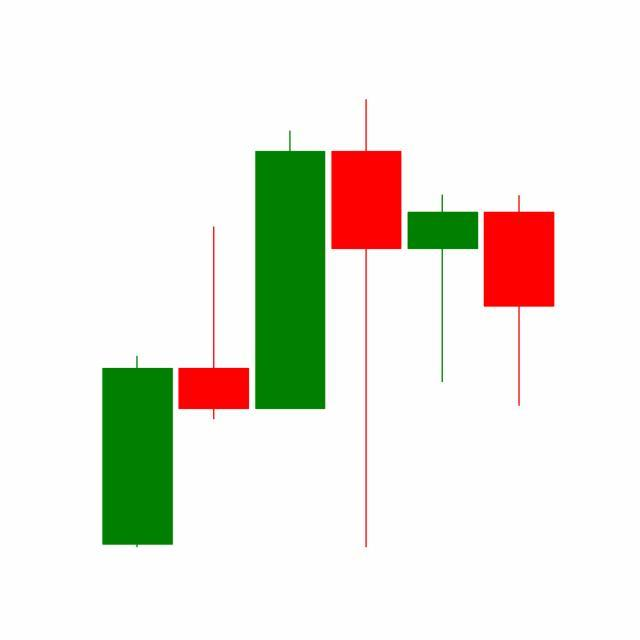Dragonfly Doji: (404, 192, 482, 385)
